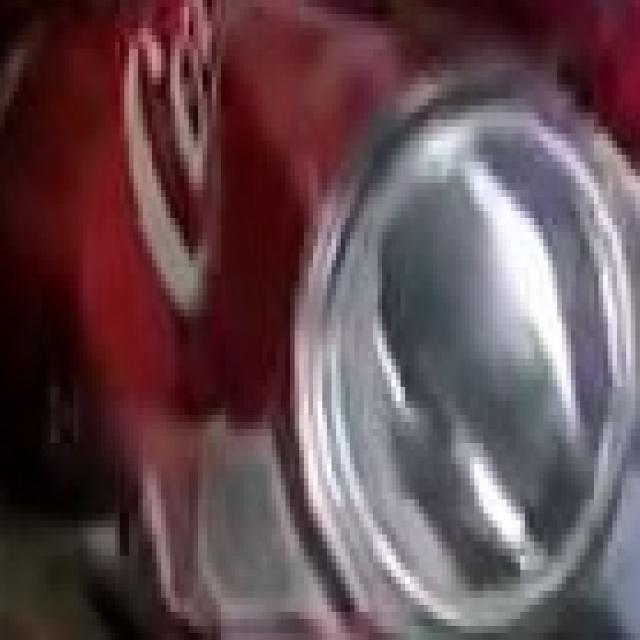can: (6, 0, 640, 640)
